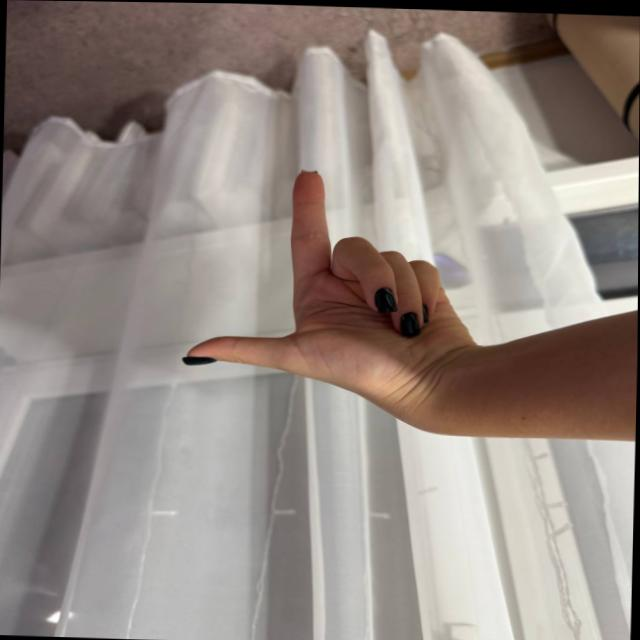g: (172, 155, 484, 410)
